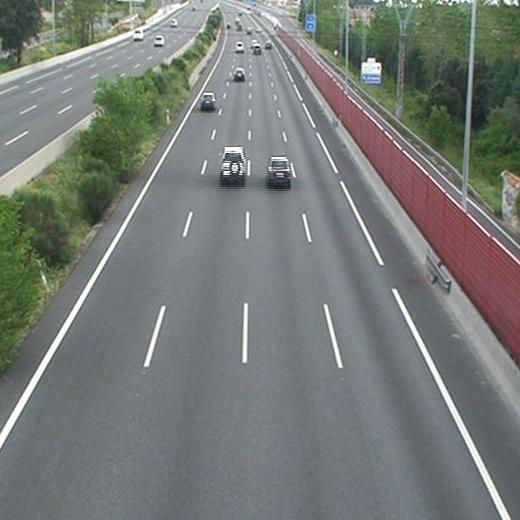car: (219, 147, 245, 181), (267, 157, 291, 182), (201, 93, 216, 108), (234, 68, 245, 79), (235, 41, 244, 51), (252, 44, 261, 53)
